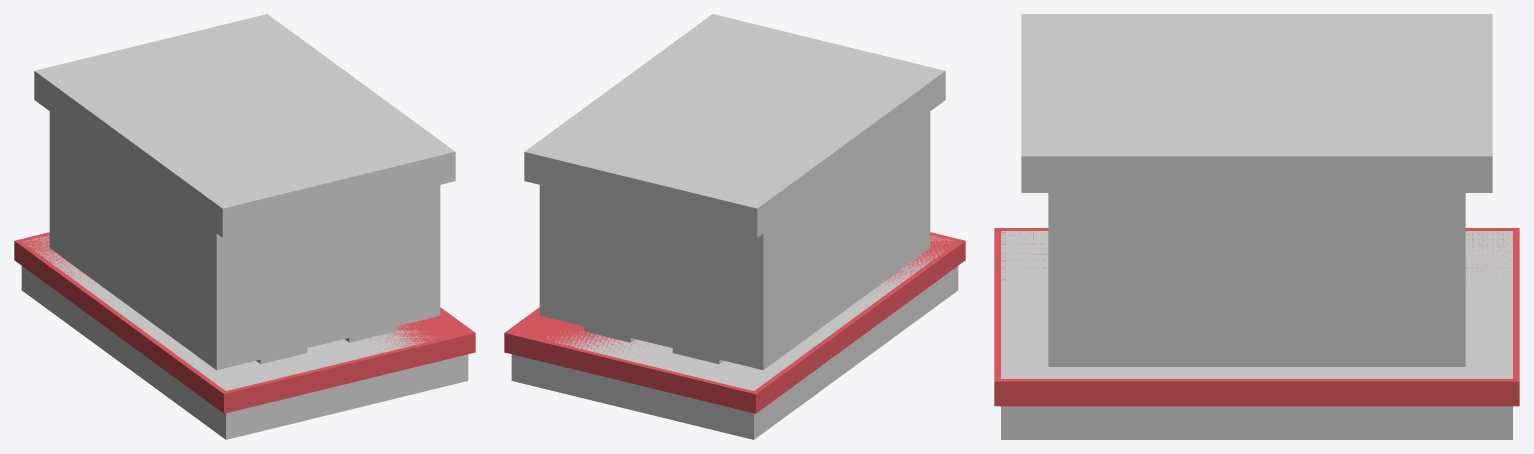
The model's file is toque_pizzaiolo.glb.
3 renders of one model, left to right at view 1: azimuth 30°, elevation 25°; view 2: azimuth 150°, elevation 25°; view 3: azimuth 270°, elevation 25°, orthographic. The views are drawn at different scales.
Visible parts, largest first — view 1: toque_pizzaiolo; view 2: toque_pizzaiolo; view 3: toque_pizzaiolo.
Boxes of the visible parts, x1,y1,x2,y2 form: toque_pizzaiolo: (14,14,475,439); toque_pizzaiolo: (504,14,965,439); toque_pizzaiolo: (994,14,1519,439).
Size of the model in its own units: 0.54 by 0.46 by 0.78.
